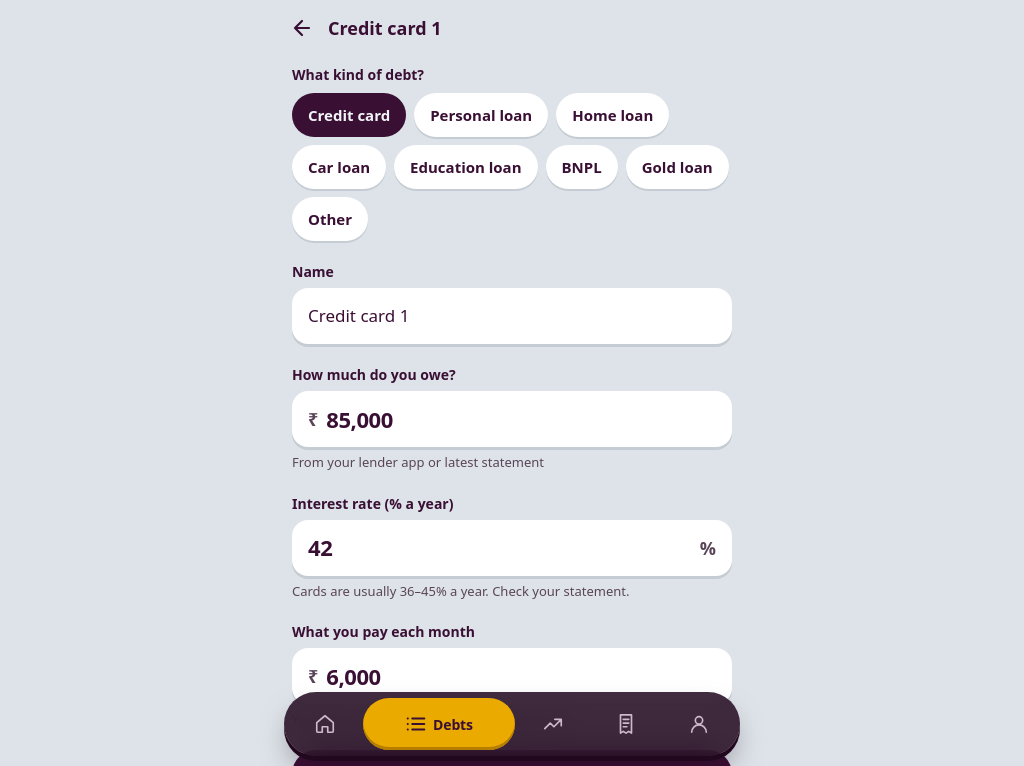
Scenario: debt edit › shows payoff time and interest, saves edits, and deletes after confirming
Expected: the heading "Credit card 1" is shown, [328, 14, 442, 42]
Replace the text in the field labelled "What you pay each month" with "2000" at (521, 676), box [326, 660, 716, 692]
(page scrolled)
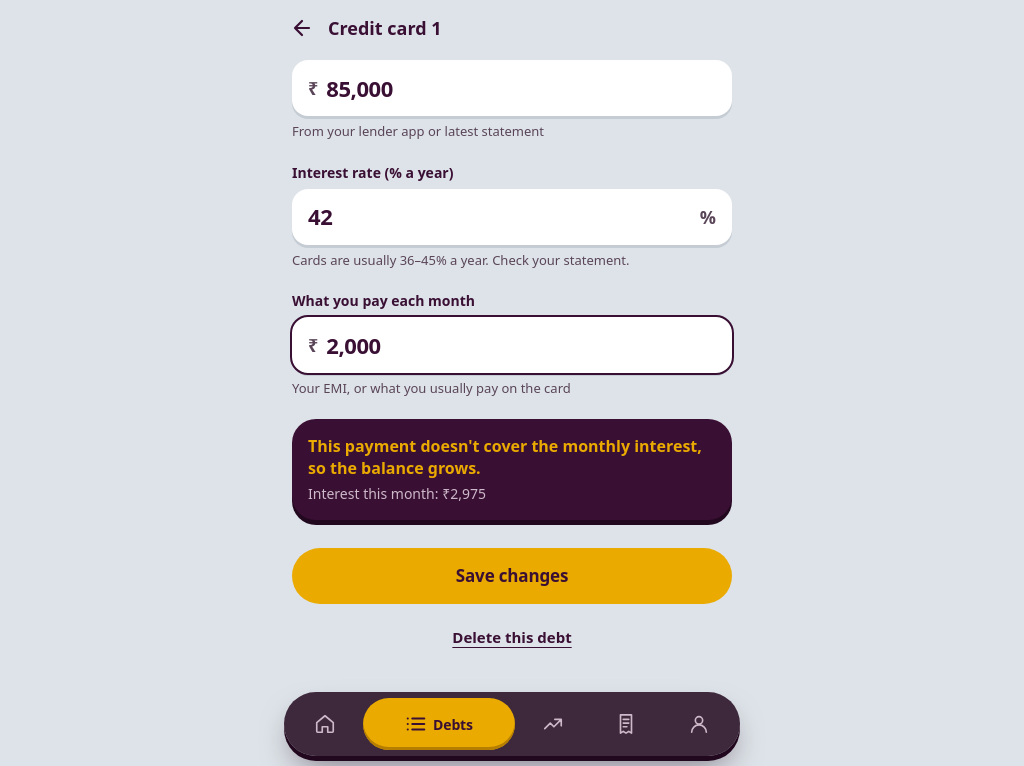
Expected: the message shows "This payment doesn't cover the monthly interest", [308, 434, 702, 478]
Click the button "Save changes" at (512, 576), box [292, 548, 732, 604]
(page scrolled)
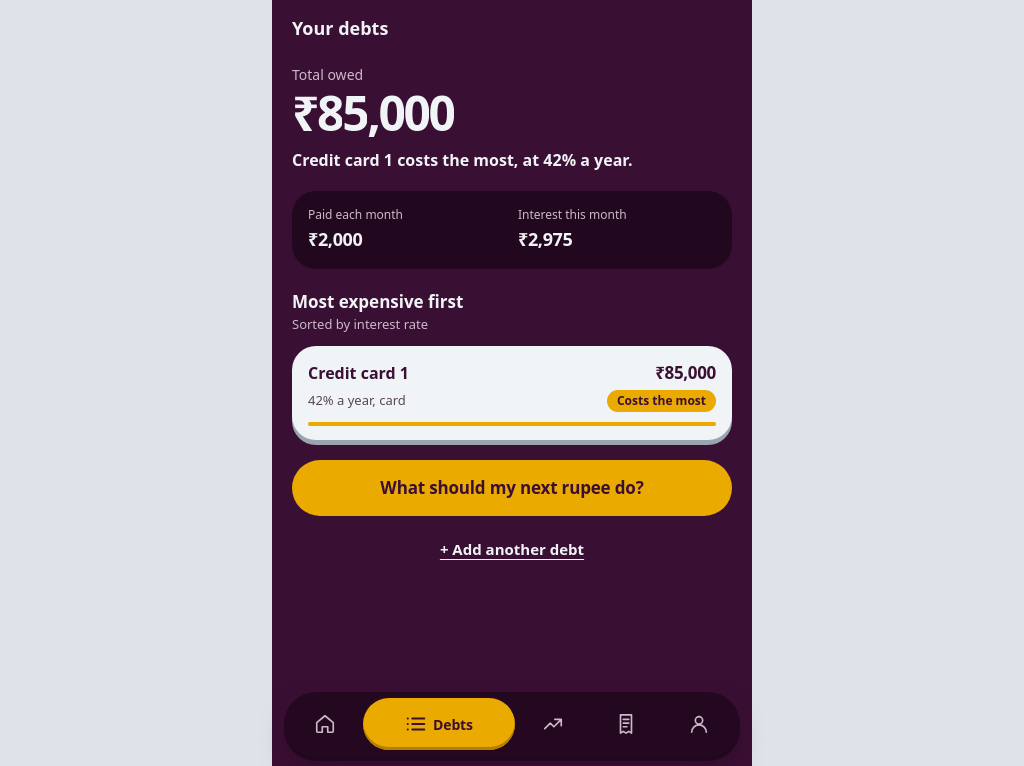
Click the link "Credit card 1 ₹85,000 42% a year, card Costs the most" at (358, 373), box [292, 346, 732, 440]
(page scrolled)
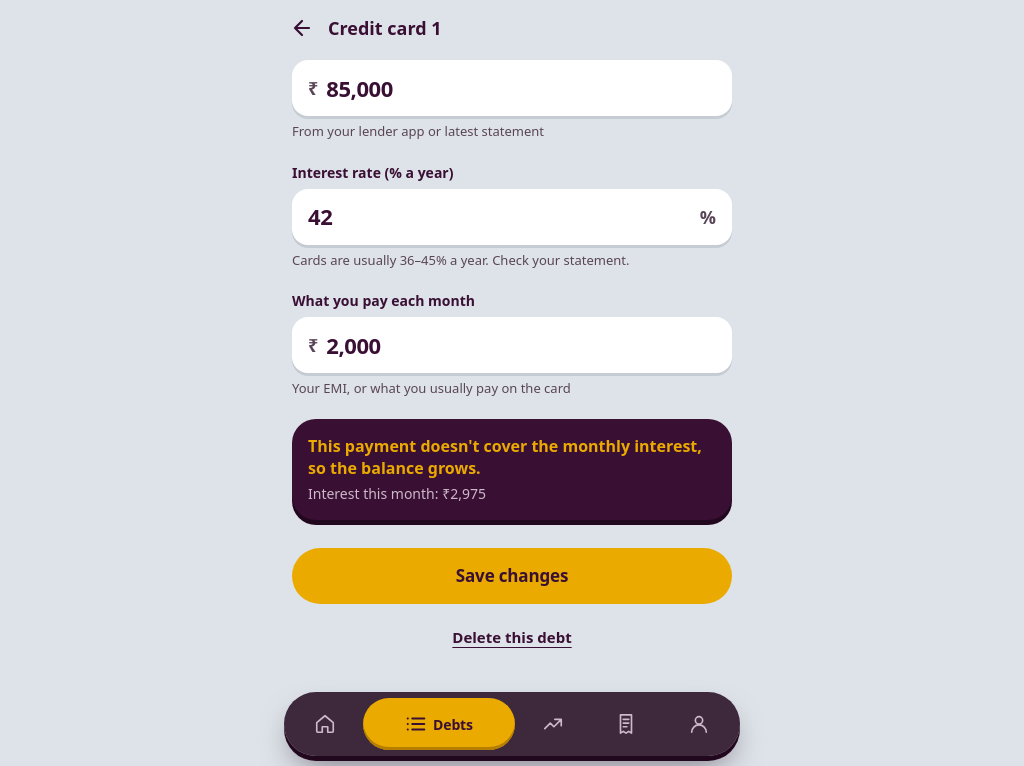
Click the button "Delete this debt" at (512, 638), box [440, 616, 584, 660]
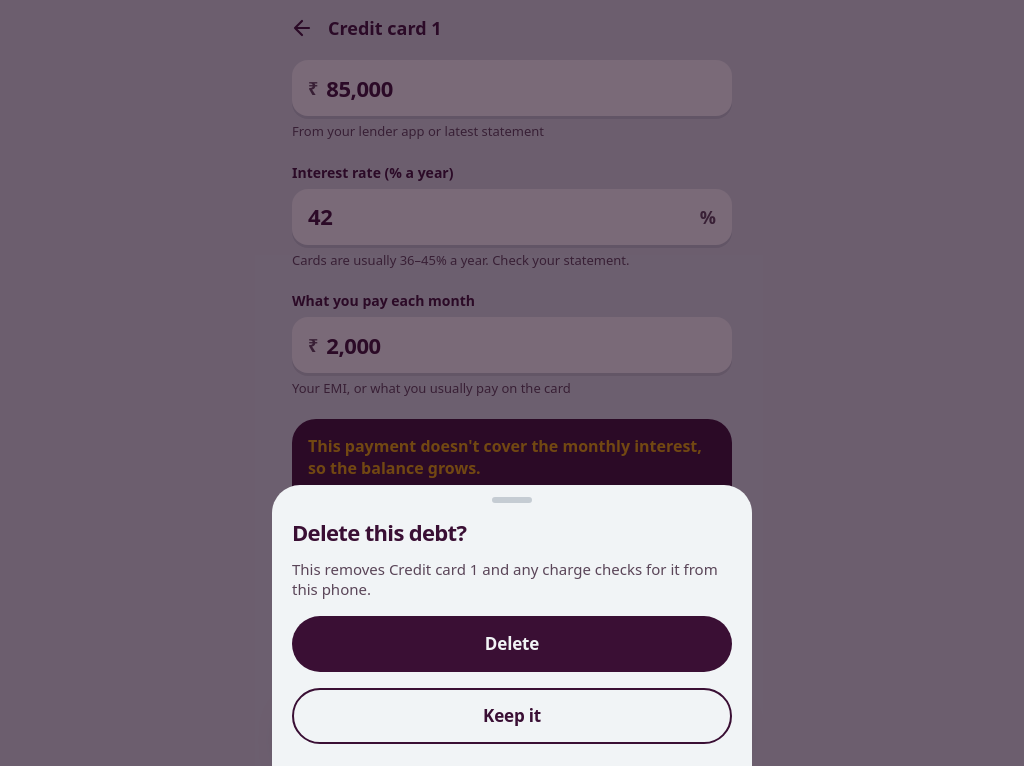
Click the button "Delete" at (512, 644), box [292, 616, 732, 672]
(page scrolled)
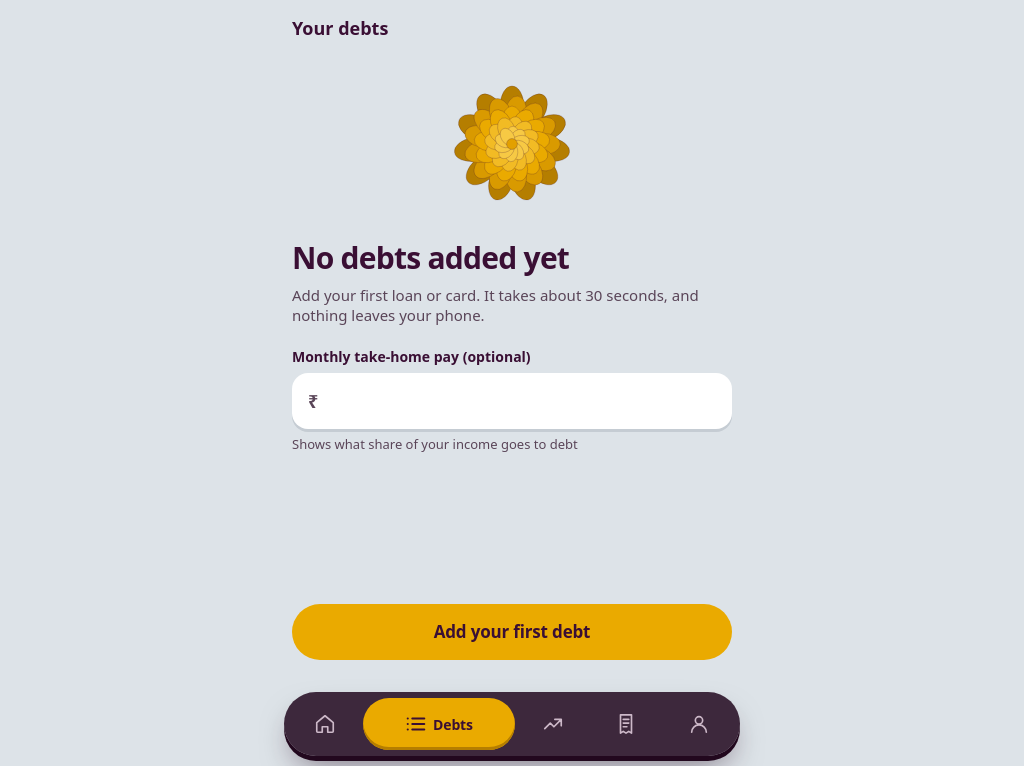
Expected: the heading "No debts added yet" is shown, [292, 237, 569, 278]
